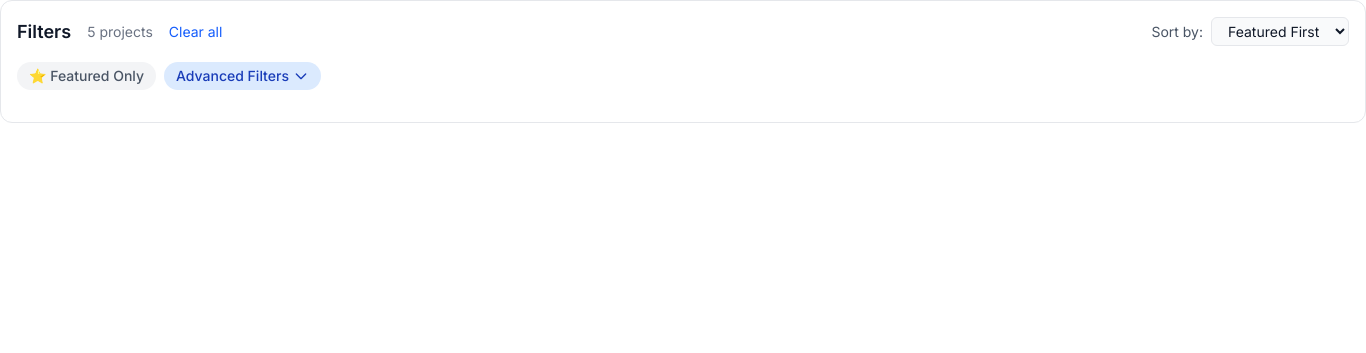
Test: ProjectFilters Component › Category Filters › should show checked state for active categories
Click the button "Advanced Filters". click: (242, 76)
box: [164,62,321,90]
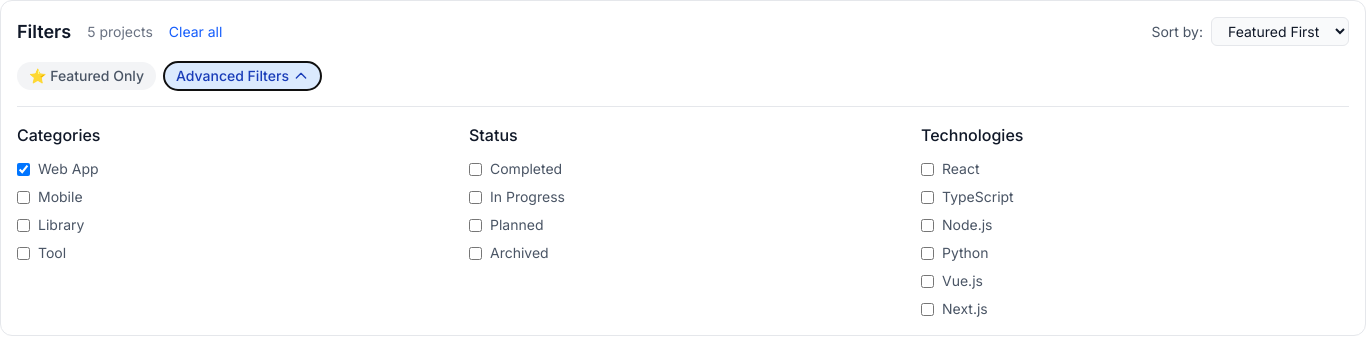
expect the checkbox labelled "web app" is checked: met, box [17,162,30,176]
